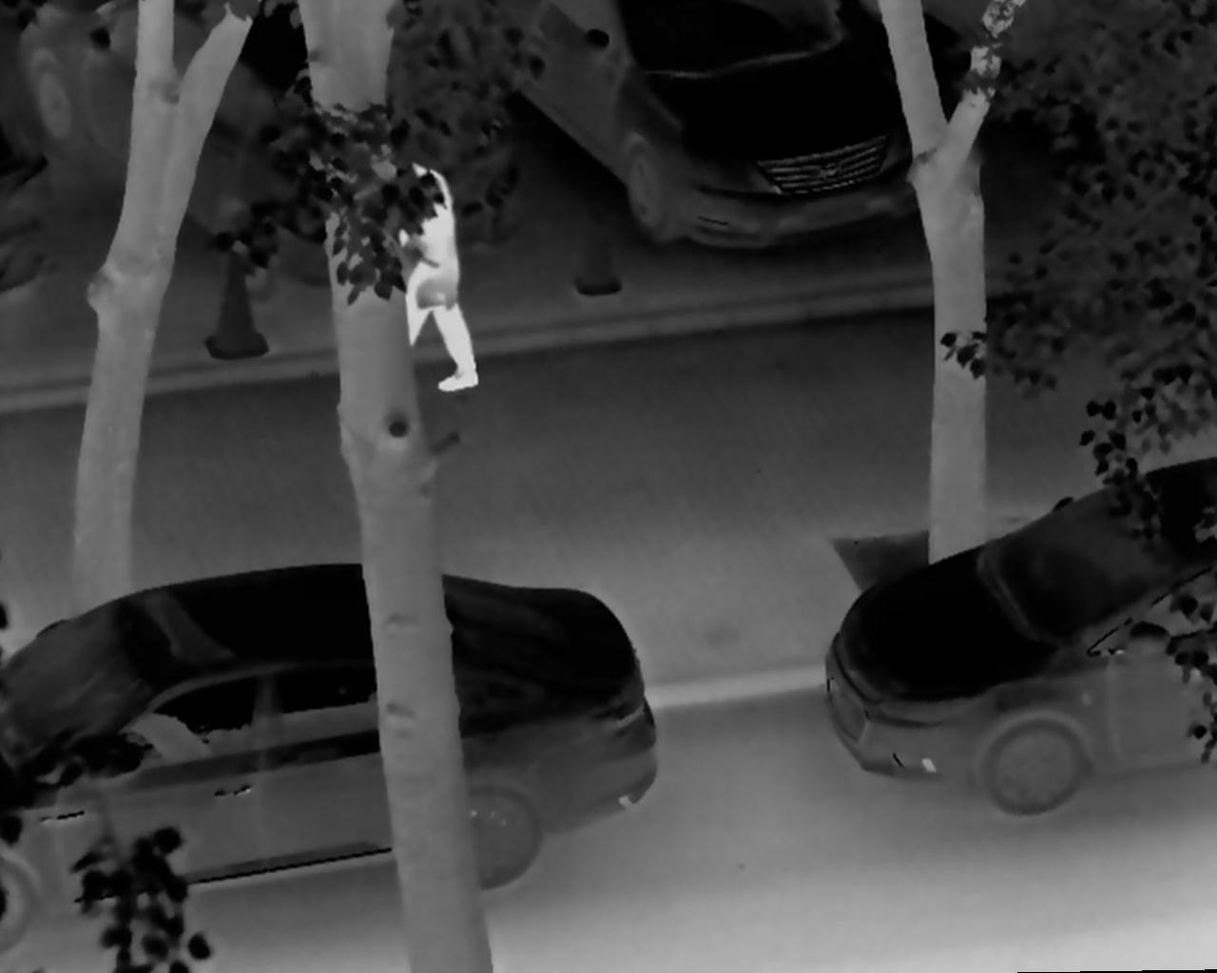person: (383, 150, 479, 398)
